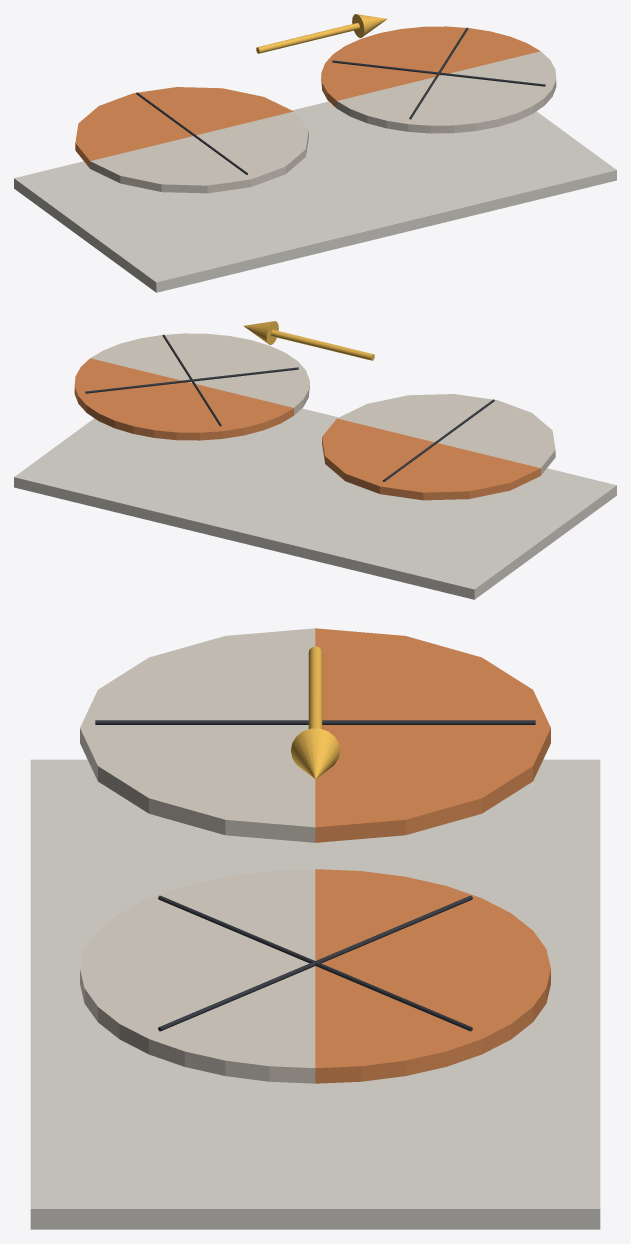
The model's file is math-fractions-equivalent-fraction.glb.
The picture shows the model from 3 angles, top to bottom: view 1: azimuth 30°, elevation 25°; view 2: azimuth 150°, elevation 25°; view 3: azimuth 270°, elevation 25°; orthographic projection. The views are drawn at different scales.
Parts seen in each view (by area): view 1: manipulative-base, one-half-left-slice-2, one-half-left-slice-1, two-fourths-right-slice-3, two-fourths-right-slice-4, two-fourths-right-slice-2, two-fourths-right-slice-1, same-value-arrow-shaft, same-value-arrow-head; view 2: manipulative-base, one-half-left-slice-1, one-half-left-slice-2, two-fourths-right-slice-2, two-fourths-right-slice-1, two-fourths-right-slice-3, two-fourths-right-slice-4, same-value-arrow-shaft, same-value-arrow-head; view 3: manipulative-base, one-half-left-slice-1, one-half-left-slice-2, two-fourths-right-slice-1, two-fourths-right-slice-4, two-fourths-right-slice-2, two-fourths-right-slice-3, same-value-arrow-head, same-value-arrow-shaft, one-half-left-divider-1, one-half-left-divider-2, two-fourths-right-divider-1 (+3 smaller).
Part boxes in pixels (bbox=[...]): manipulative-base: bbox=[14, 101, 616, 292]; one-half-left-slice-2: bbox=[90, 111, 308, 193]; one-half-left-slice-1: bbox=[75, 87, 293, 168]; two-fourths-right-slice-3: bbox=[337, 76, 497, 133]; two-fourths-right-slice-4: bbox=[439, 51, 556, 126]; two-fourths-right-slice-2: bbox=[321, 33, 436, 108]; two-fourths-right-slice-1: bbox=[380, 26, 540, 75]; same-value-arrow-shaft: bbox=[256, 22, 359, 53]; same-value-arrow-head: bbox=[352, 14, 387, 37]; manipulative-base: bbox=[14, 408, 616, 599]; one-half-left-slice-1: bbox=[322, 418, 540, 500]; one-half-left-slice-2: bbox=[337, 394, 555, 475]; two-fourths-right-slice-2: bbox=[133, 383, 293, 440]; two-fourths-right-slice-1: bbox=[74, 358, 191, 433]; two-fourths-right-slice-3: bbox=[194, 340, 309, 415]; two-fourths-right-slice-4: bbox=[90, 333, 250, 382]; same-value-arrow-shaft: bbox=[271, 329, 374, 360]; same-value-arrow-head: bbox=[243, 321, 278, 344]; manipulative-base: bbox=[30, 759, 600, 1229]; one-half-left-slice-1: bbox=[315, 628, 550, 842]; one-half-left-slice-2: bbox=[80, 628, 315, 842]; two-fourths-right-slice-1: bbox=[315, 968, 550, 1083]; two-fourths-right-slice-4: bbox=[80, 968, 315, 1083]; two-fourths-right-slice-2: bbox=[315, 869, 550, 968]; two-fourths-right-slice-3: bbox=[80, 869, 315, 968]; same-value-arrow-head: bbox=[291, 728, 339, 779]; same-value-arrow-shaft: bbox=[308, 646, 322, 728]; one-half-left-divider-1: bbox=[95, 720, 308, 724]; one-half-left-divider-2: bbox=[322, 720, 535, 724]; two-fourths-right-divider-1: bbox=[158, 961, 315, 1031].
Size of what is drawn, in the model's own units: 2.8 by 0.924 by 1.5.
